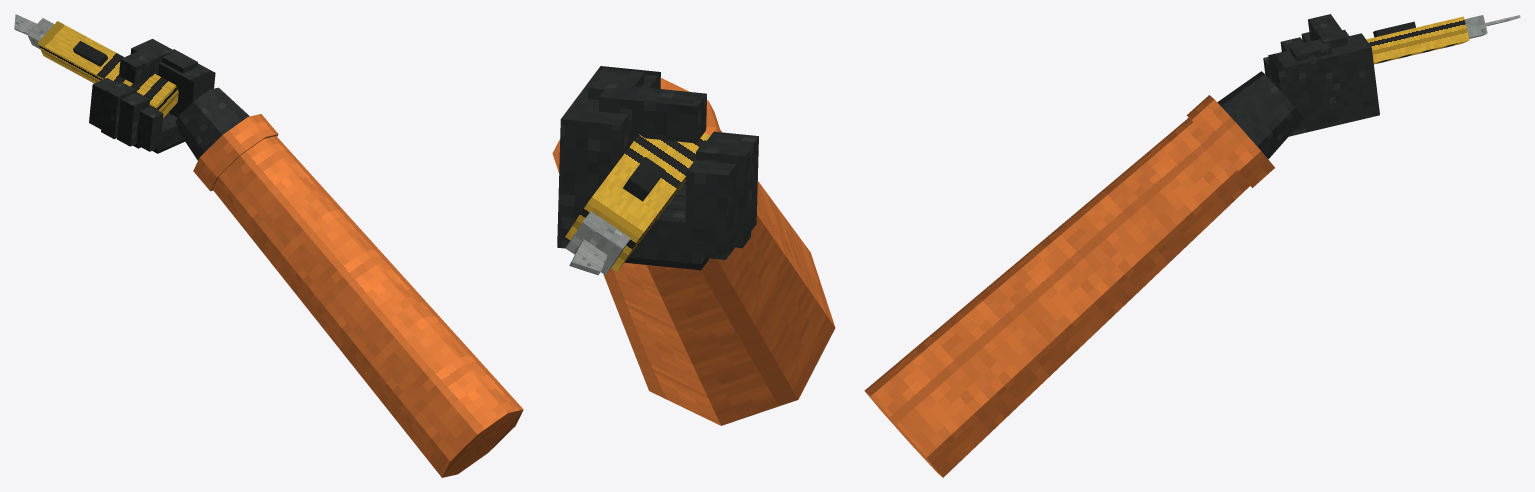
File: vm_box_cutter.glb
The picture shows the model from 3 angles, left to right: view 1: azimuth 30°, elevation 25°; view 2: azimuth 150°, elevation 25°; view 3: azimuth 270°, elevation 25°; orthographic projection. The views are drawn at different scales.
Parts seen in each view (by area): view 1: Arms, Item; view 2: Arms, Item; view 3: Arms, Item.
Boxes of the visible parts, box(x1,y1,x2,y2) form: Arms: box(89, 39, 523, 477); Item: box(14, 14, 178, 117); Arms: box(552, 66, 835, 425); Item: box(565, 132, 709, 275); Arms: box(864, 14, 1379, 477); Item: box(1366, 15, 1520, 64).
Bounding box in the file's own units: 0.2917 × 0.3725 × 0.6005.
6 materials, 6 textured.
